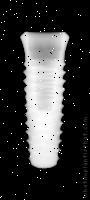Cowellmedi: (20, 32, 69, 169)
